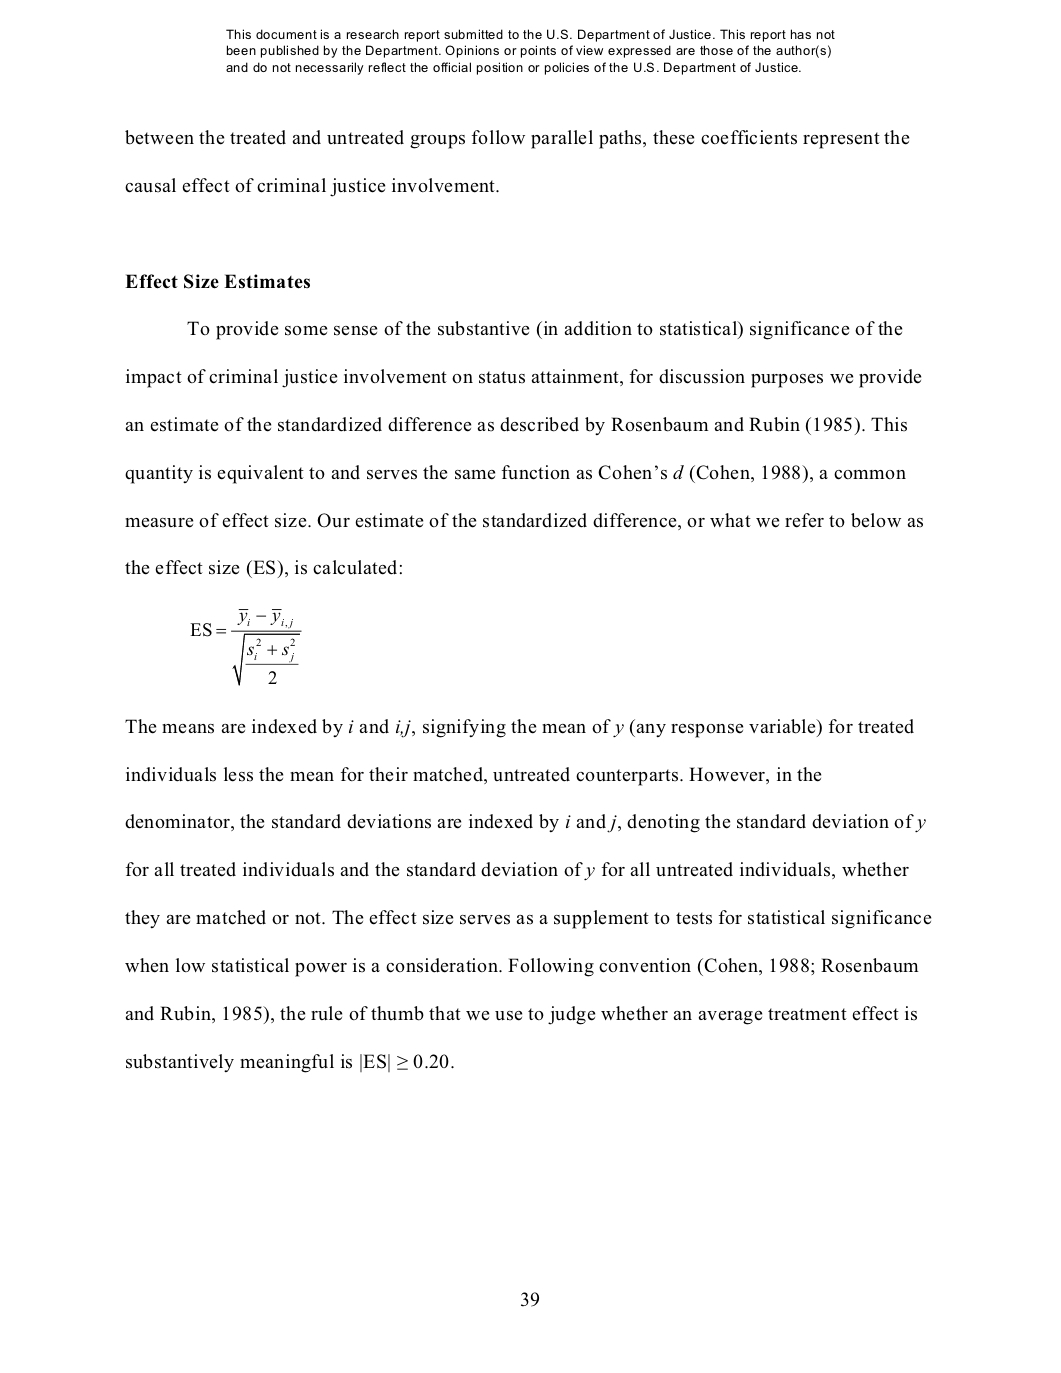formula: (189, 608, 301, 686)
